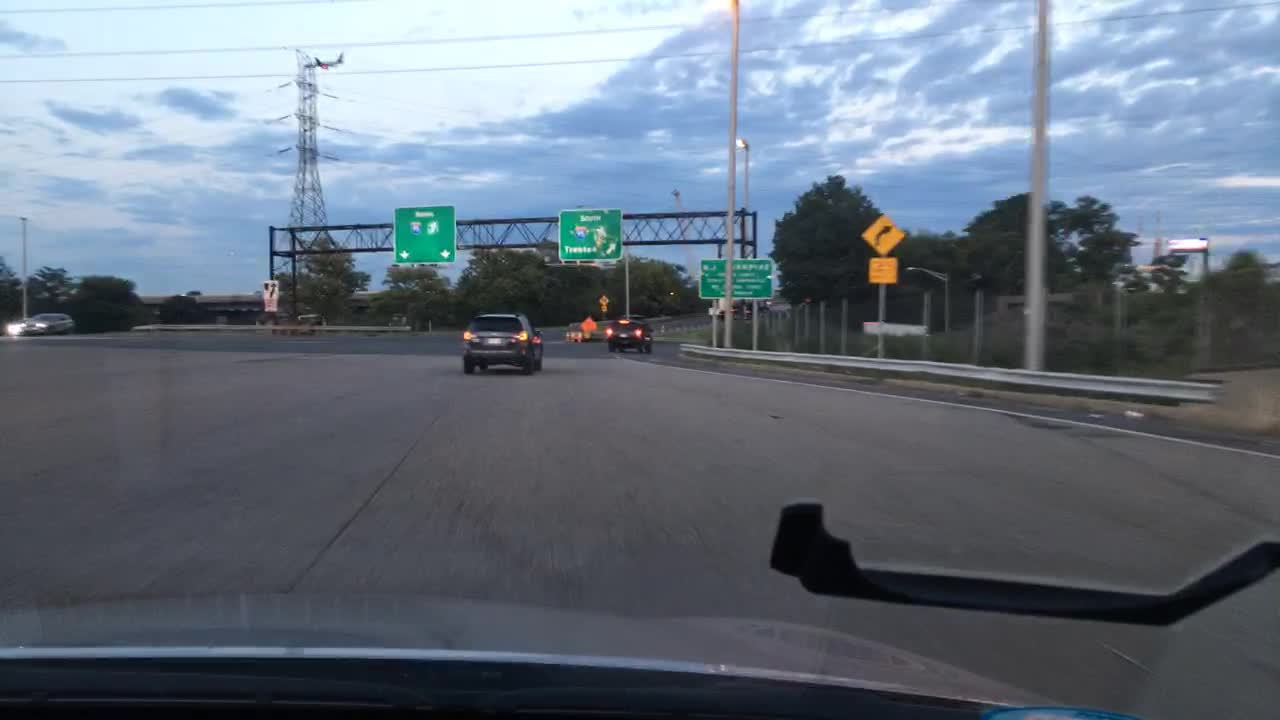car: (460, 311, 546, 377), (5, 310, 77, 336), (606, 316, 655, 353), (719, 304, 752, 320), (587, 320, 605, 338), (566, 320, 580, 340), (756, 301, 771, 311), (182, 288, 200, 296), (248, 288, 261, 295)
traffic sign: (392, 205, 457, 263), (558, 208, 623, 257), (699, 257, 770, 299), (859, 215, 907, 253), (865, 257, 898, 284), (578, 314, 596, 338), (262, 278, 280, 298), (263, 296, 278, 313), (596, 295, 612, 308)
